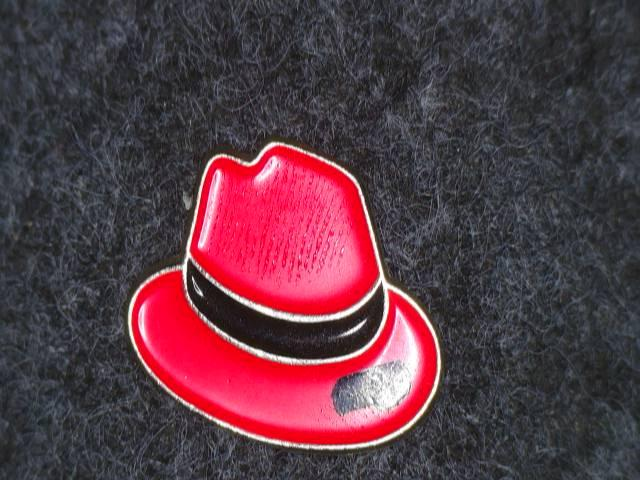Red-Hat: (98, 120, 481, 464)
Scratch: (316, 349, 430, 428)
